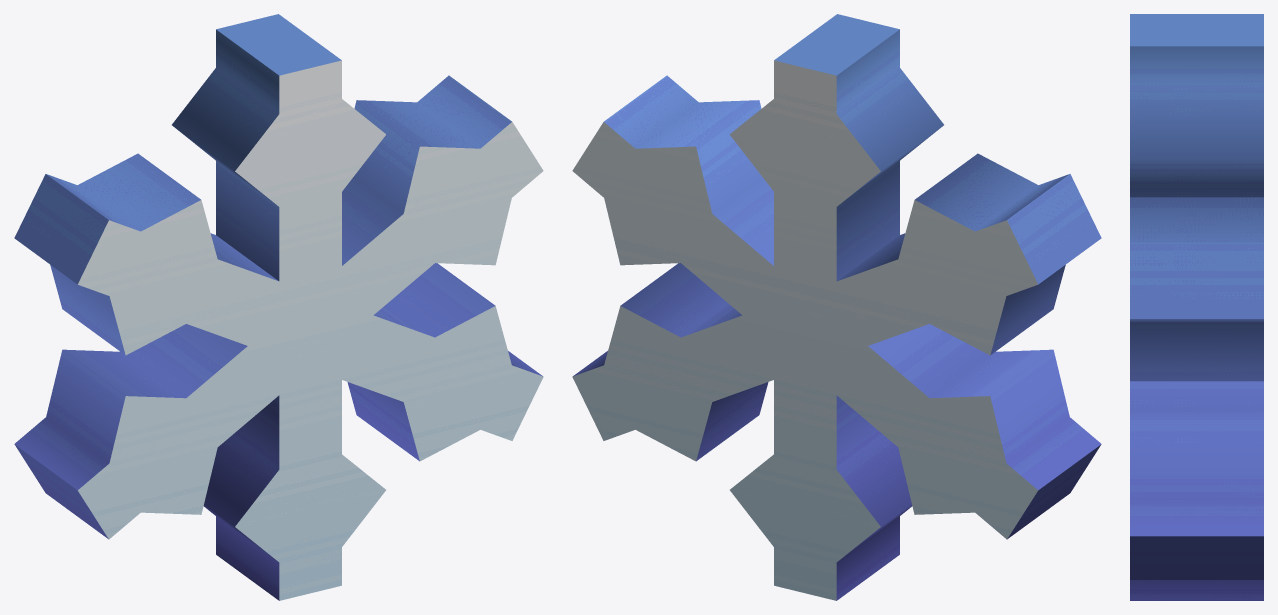
The model's file is snowflake-b.glb.
3 renders of one model, left to right at view 1: azimuth 30°, elevation 25°; view 2: azimuth 150°, elevation 25°; view 3: azimuth 270°, elevation 25°, orthographic. The views are drawn at different scales.
Parts seen in each view (by area): view 1: snowflake-b; view 2: snowflake-b; view 3: snowflake-b.
Boxes of the visible parts, bbox=[...] form: snowflake-b: bbox=[14, 14, 543, 600]; snowflake-b: bbox=[572, 14, 1101, 600]; snowflake-b: bbox=[1130, 14, 1263, 600].
Bounding box in the file's own units: 1.11 × 1.2 × 0.2625.
1 material, 1 textured.
